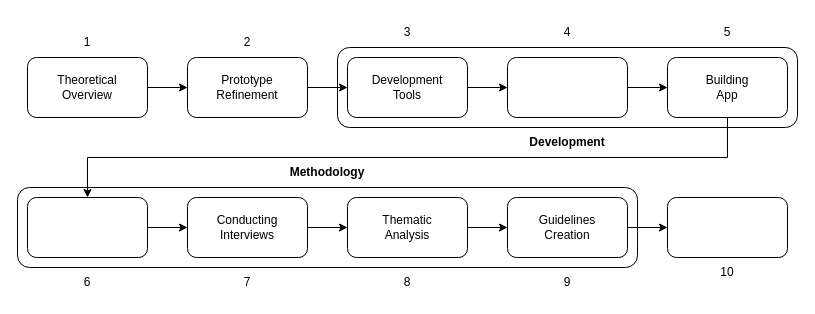
This 815x314 diagram has some shape labels left out. Each missing label, with the centre of its shape:
"Development Plan" belongs at [567,87].
"Participant Recruitment" belongs at [87,227].
"Results and Discussion" belongs at [727,227].
